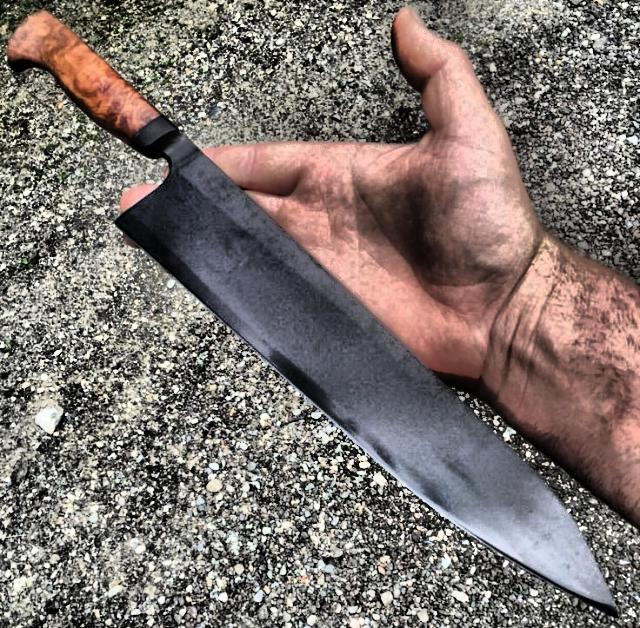knife: (187, 131, 625, 624)
